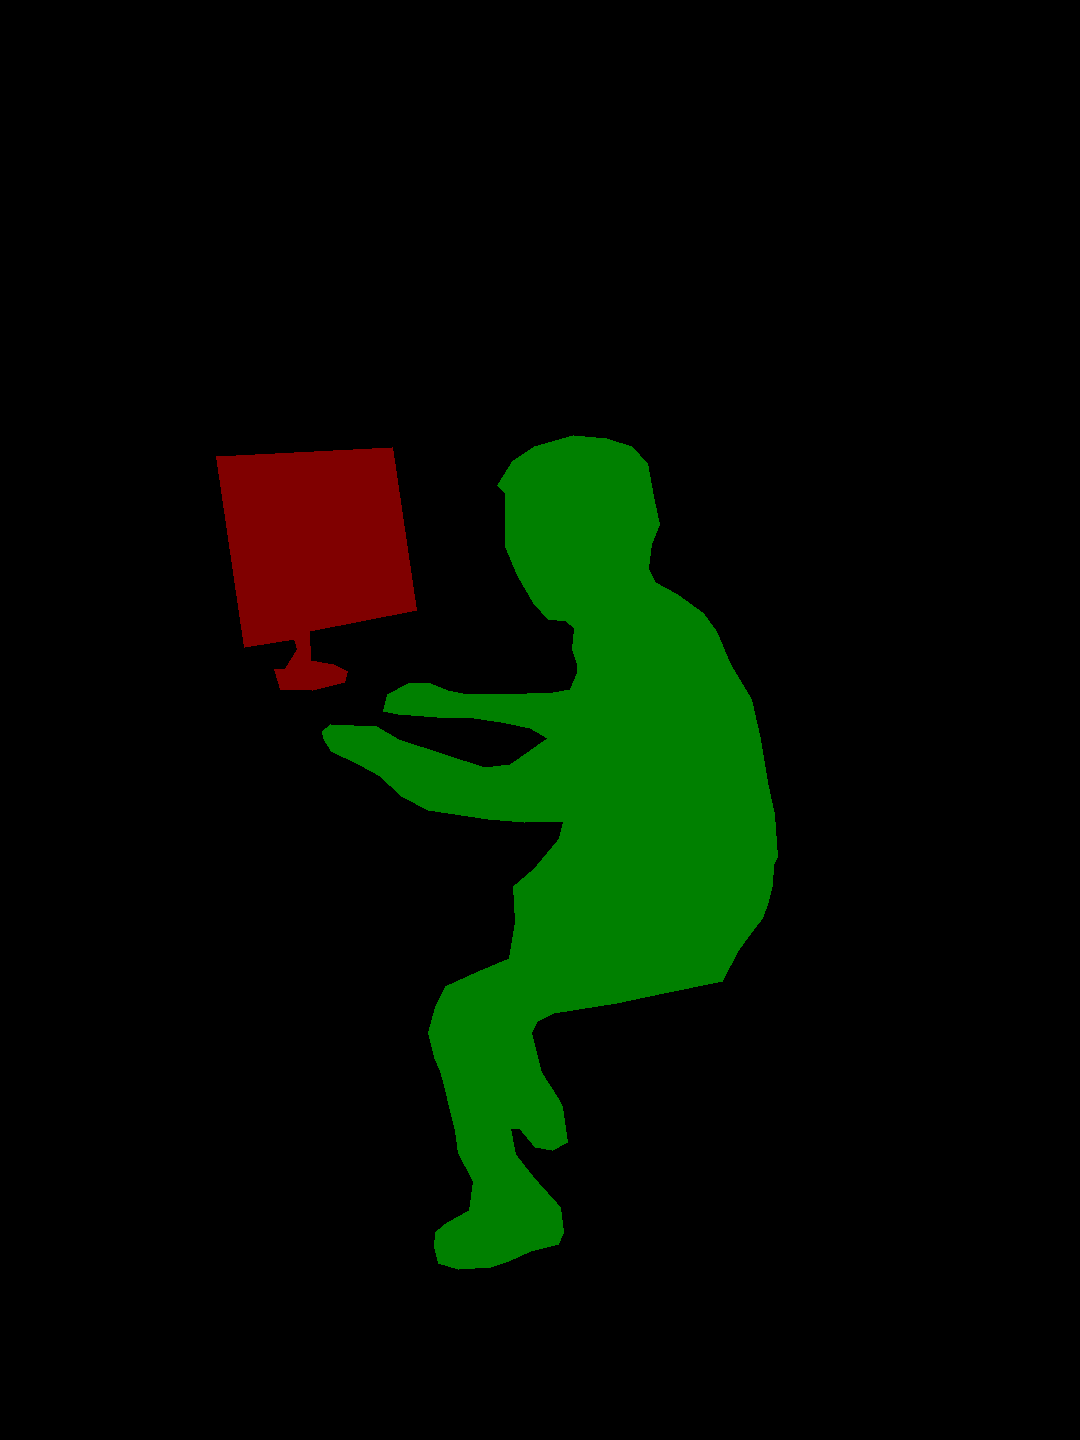person: (322, 435, 777, 1269)
tvmonitor: (216, 447, 416, 690)
